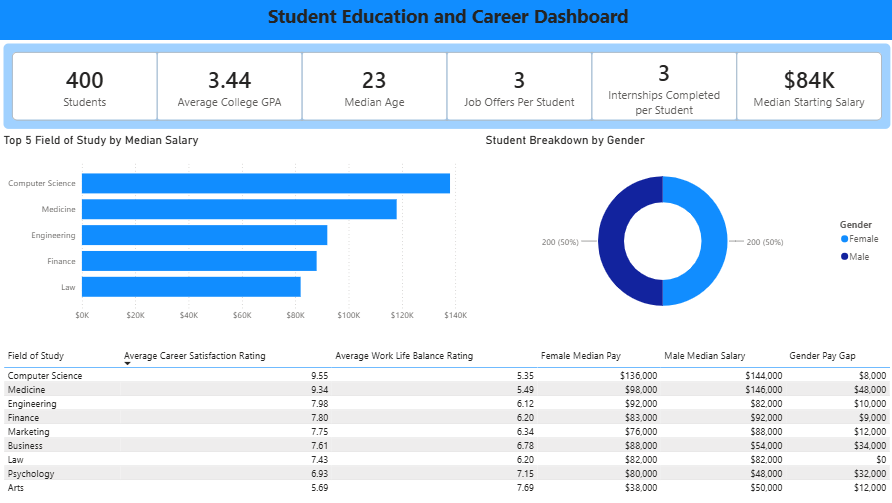

The dashboard page shown, as its layout file describes it:
{"tool":"powerbi","page":{"name":"Page 1","canvas":[1280,720],"ordinal":0},"visuals":[{"type":"textbox","box":[0,0,1280.5,67.3],"z":0},{"type":"cardVisual","fields":{"Data":["CountNonNull(education_career_success.Gender)","Avg(education_career_success.University_GPA)","Median(education_career_success.Age)","Median(education_career_success.Job_Offers)","Median(education_career_success.Internships_Completed)","Median(education_career_success.Starting_Salary)"]},"box":[0,58.8,1280,132.5],"z":1000},{"type":"donutChart","title":"Student Breakdown by Gender","fields":{"Y":["CountNonNull(education_career_success.Gender)"],"Category":["education_career_success.Gender"]},"box":[688.8,191.2,582.5,278.8],"z":2000},{"type":"clusteredBarChart","title":"Top 5 Field of Study by Median Salary","fields":{"Y":["Median(education_career_success.Starting_Salary)"],"Category":["education_career_success.Field_of_Study"]},"box":[0,191.2,672.5,278.8],"z":3000},{"type":"tableEx","fields":{"Values":["education_career_success.Field_of_Study","Avg(education_career_success.Career_Satisfaction)","Avg(education_career_success.Work_Life_Balance)","female_pay.Female_Median_Pay","male_pay.Male_Median_Salary","education_career_success.Gender_Pay_Gap"]},"box":[0,493.8,1280,227.5],"z":4000}]}

Visuals, with their boxes in screenshot pixels (x1, y1, x2, y2), scaled from the page's 1280x720 canvas onto the 892x503 screenshot:
textbox: [x1=0, y1=0, x2=891, y2=47]
cardVisual - CountNonNull(education_career_success.Gender) x Avg(education_career_success.University_GPA): [x1=0, y1=41, x2=891, y2=134]
"Student Breakdown by Gender" donutChart: [x1=480, y1=134, x2=886, y2=328]
"Top 5 Field of Study by Median Salary" clusteredBarChart: [x1=0, y1=134, x2=469, y2=328]
tableEx - education_career_success.Field_of_Study x Avg(education_career_success.Career_Satisfaction): [x1=0, y1=345, x2=891, y2=502]
